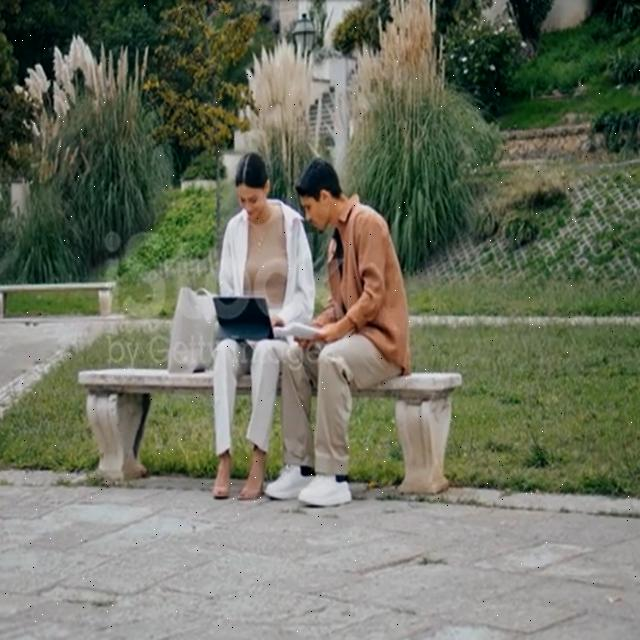sitting: (266, 159, 409, 506), (219, 154, 314, 326), (212, 331, 290, 499)
